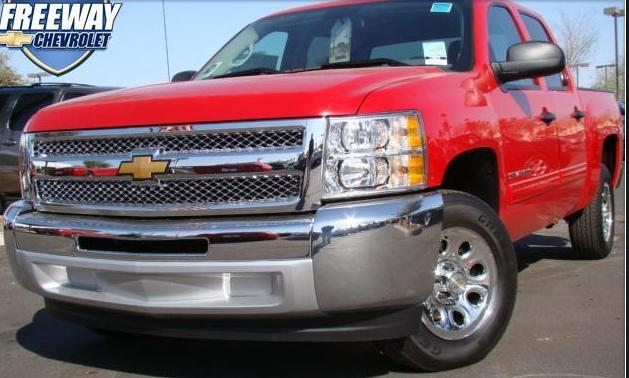front_view: (1, 102, 438, 338)
headlight: (311, 101, 436, 205)
side_glass: (482, 5, 572, 97)
